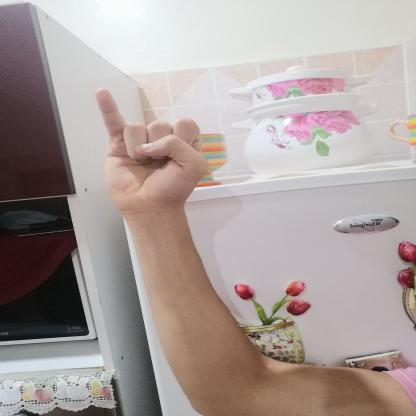MEEM: (77, 81, 226, 227)
